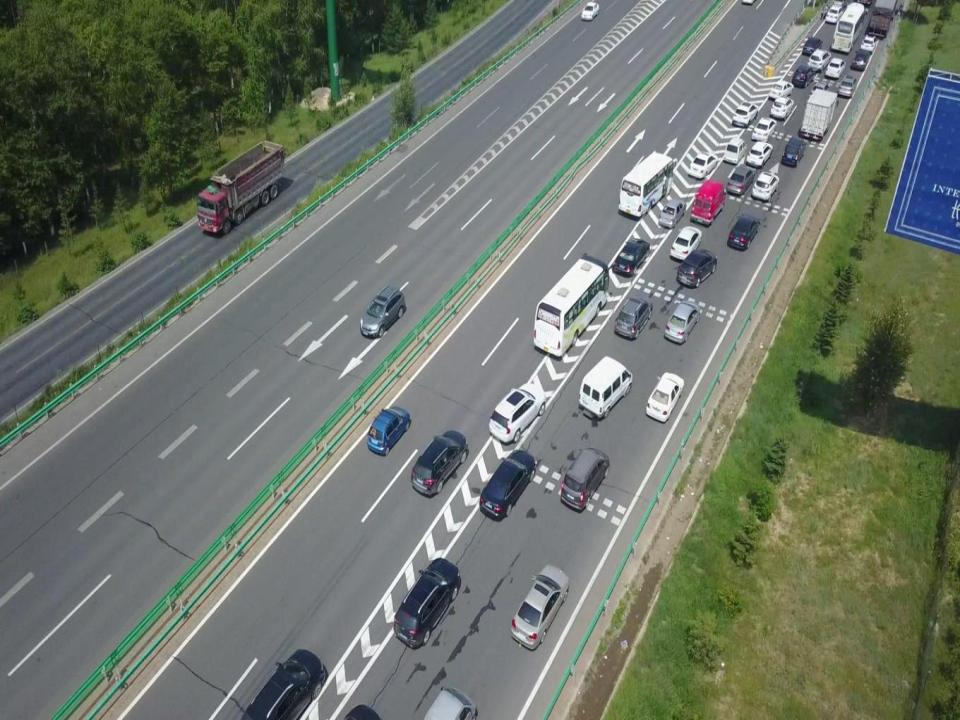bus: (534, 251, 612, 357), (618, 150, 678, 216), (831, 2, 868, 53)
car: (239, 649, 328, 719), (394, 556, 460, 650), (511, 563, 568, 651), (479, 449, 535, 521), (411, 430, 469, 496), (489, 382, 546, 443), (359, 283, 407, 337), (367, 404, 412, 456), (645, 371, 684, 422), (614, 295, 652, 339), (664, 300, 700, 344), (677, 248, 717, 287), (613, 238, 649, 277), (727, 213, 761, 250), (670, 226, 702, 262), (726, 163, 756, 196), (687, 150, 718, 180), (659, 197, 686, 228), (752, 172, 779, 202), (781, 136, 806, 168), (747, 141, 773, 169), (732, 102, 758, 128), (792, 63, 817, 89), (723, 136, 746, 164), (770, 94, 794, 120), (752, 117, 775, 143), (807, 48, 831, 72), (769, 80, 793, 102), (838, 74, 858, 98), (802, 36, 823, 56), (826, 57, 846, 78), (810, 83, 831, 103), (852, 48, 870, 71), (824, 5, 844, 24), (581, 2, 599, 21), (861, 34, 878, 53)
truck: (197, 140, 284, 236), (801, 90, 837, 142), (869, 0, 898, 38)
van: (579, 355, 632, 418), (560, 447, 610, 510), (689, 179, 726, 225)
